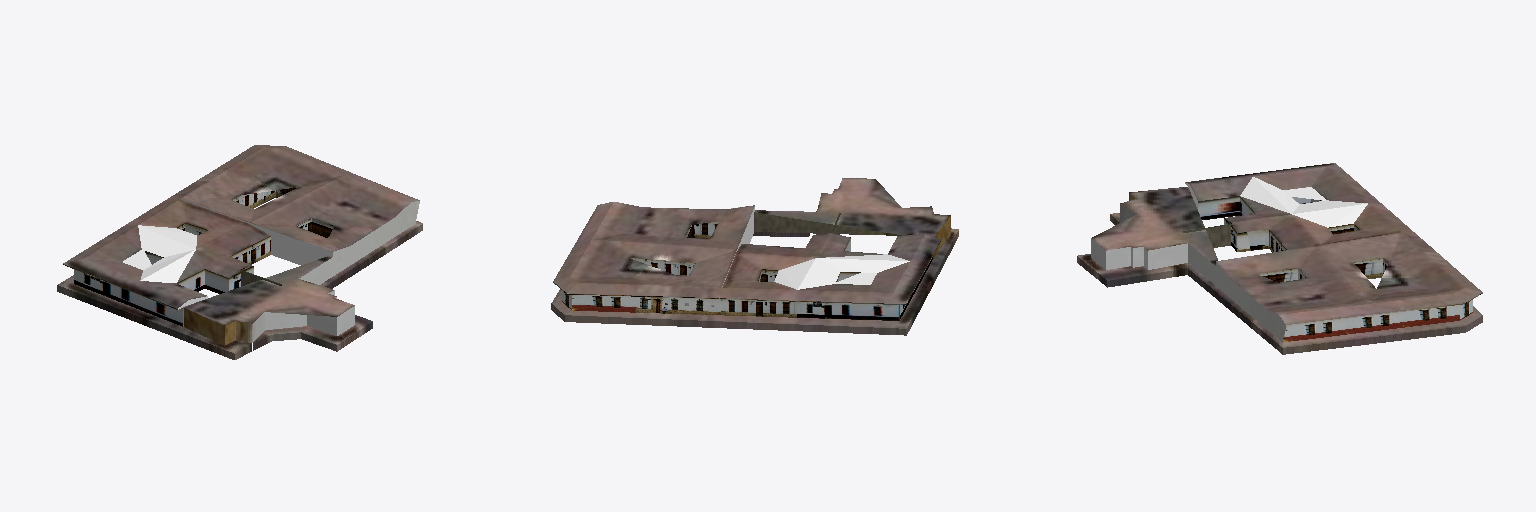
3 renders of one model, left to right at view 1: azimuth 30°, elevation 25°; view 2: azimuth 150°, elevation 25°; view 3: azimuth 270°, elevation 25°, orthographic.
Visible parts, largest first — view 1: Mesh1 Model; view 2: Mesh1 Model; view 3: Mesh1 Model.
Boxes of the visible parts, x1=… form: Mesh1 Model: x1=57, y1=145, x2=422, y2=359; Mesh1 Model: x1=551, y1=178, x2=958, y2=335; Mesh1 Model: x1=1077, y1=163, x2=1482, y2=354.
Size of the model in its own units: 80.22 by 7.49 by 83.65.
Materials: 15 (14 with a texture image).